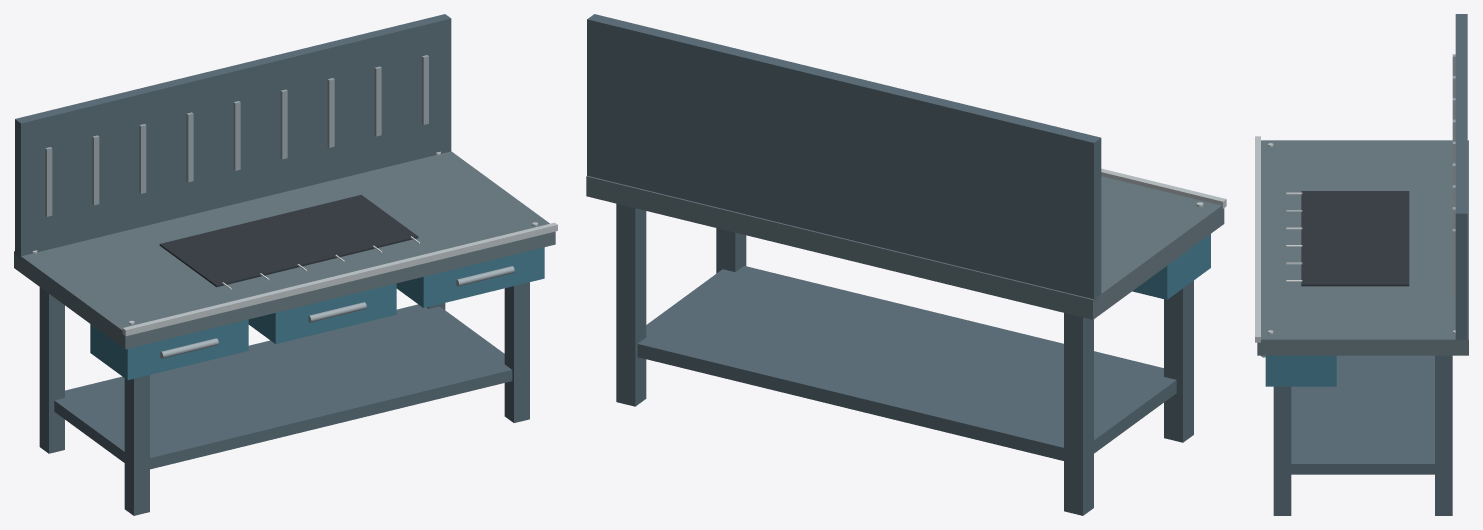
File: workbench_lod1.glb
3 renders of one model, left to right at view 1: azimuth 30°, elevation 25°; view 2: azimuth 150°, elevation 25°; view 3: azimuth 270°, elevation 25°, orthographic. The views are drawn at different scales.
Parts seen in each view (by area): view 1: BENCH_BACK_MAT_METAL_DARK, BENCH_TOP_MAT_BENCH_TOP, LOWER_SHELF_MAT_METAL_DARK, BENCH_ANTISTATIC_MAT_RUBBER, DRAWER_-1.65_MAT_POLYMER_BLUE, BENCH_EDGE_TRIM_MAT_STAINLESS, DRAWER_1.65_MAT_POLYMER_BLUE, DRAWER_0_MAT_POLYMER_BLUE, LEG_-2.12_-0.82_MAT_METAL_DARK, LEG_-2.12_0.82_MAT_METAL_DARK, LEG_2.12_0.82_MAT_METAL_DARK; view 2: BENCH_BACK_MAT_METAL_DARK, LOWER_SHELF_MAT_METAL_DARK, BENCH_TOP_MAT_BENCH_TOP, LEG_2.12_-0.82_MAT_METAL_DARK, LEG_-2.12_-0.82_MAT_METAL_DARK, LEG_-2.12_0.82_MAT_METAL_DARK, DRAWER_-1.65_MAT_POLYMER_BLUE, LEG_2.12_0.82_MAT_METAL_DARK, BENCH_EDGE_TRIM_MAT_STAINLESS; view 3: BENCH_TOP_MAT_BENCH_TOP, LOWER_SHELF_MAT_METAL_DARK, BENCH_ANTISTATIC_MAT_RUBBER, BENCH_BACK_MAT_METAL_DARK, LEG_2.12_-0.82_MAT_METAL_DARK, LEG_2.12_0.82_MAT_METAL_DARK, DRAWER_1.65_MAT_POLYMER_BLUE, BENCH_EDGE_TRIM_MAT_STAINLESS, BACK_SLOT_8_MAT_METAL_BRUSHED.
Part boxes in pixels (<box>): BENCH_BACK_MAT_METAL_DARK: <box>15,14,451,258</box>; BENCH_TOP_MAT_BENCH_TOP: <box>14,151,555,349</box>; LOWER_SHELF_MAT_METAL_DARK: <box>54,304,512,469</box>; BENCH_ANTISTATIC_MAT_RUBBER: <box>159,194,418,287</box>; DRAWER_-1.65_MAT_POLYMER_BLUE: <box>90,319,248,380</box>; BENCH_EDGE_TRIM_MAT_STAINLESS: <box>122,222,557,336</box>; DRAWER_1.65_MAT_POLYMER_BLUE: <box>396,247,544,307</box>; DRAWER_0_MAT_POLYMER_BLUE: <box>248,283,396,343</box>; LEG_-2.12_-0.82_MAT_METAL_DARK: <box>39,287,64,453</box>; LEG_-2.12_0.82_MAT_METAL_DARK: <box>124,375,149,515</box>; LEG_2.12_0.82_MAT_METAL_DARK: <box>504,282,529,422</box>; BENCH_BACK_MAT_METAL_DARK: <box>587,14,1101,302</box>; LOWER_SHELF_MAT_METAL_DARK: <box>637,266,1176,460</box>; BENCH_TOP_MAT_BENCH_TOP: <box>586,175,1224,319</box>; LEG_2.12_-0.82_MAT_METAL_DARK: <box>616,203,646,406</box>; LEG_-2.12_-0.82_MAT_METAL_DARK: <box>1064,313,1093,515</box>; LEG_-2.12_0.82_MAT_METAL_DARK: <box>1164,280,1193,442</box>; DRAWER_-1.65_MAT_POLYMER_BLUE: <box>1132,234,1210,299</box>; LEG_2.12_0.82_MAT_METAL_DARK: <box>716,228,746,273</box>; BENCH_EDGE_TRIM_MAT_STAINLESS: <box>1101,168,1226,208</box>; BENCH_TOP_MAT_BENCH_TOP: <box>1257,140,1468,355</box>; LOWER_SHELF_MAT_METAL_DARK: <box>1291,355,1434,474</box>; BENCH_ANTISTATIC_MAT_RUBBER: <box>1301,191,1409,286</box>; BENCH_BACK_MAT_METAL_DARK: <box>1455,14,1467,342</box>; LEG_2.12_-0.82_MAT_METAL_DARK: <box>1435,355,1452,515</box>; LEG_2.12_0.82_MAT_METAL_DARK: <box>1273,386,1291,515</box>; DRAWER_1.65_MAT_POLYMER_BLUE: <box>1265,355,1336,386</box>; BENCH_EDGE_TRIM_MAT_STAINLESS: <box>1255,136,1260,342</box>; BACK_SLOT_8_MAT_METAL_BRUSHED: <box>1452,229,1455,295</box>.
Size of the model in its own units: 4.82 by 3.48 by 2.18.
